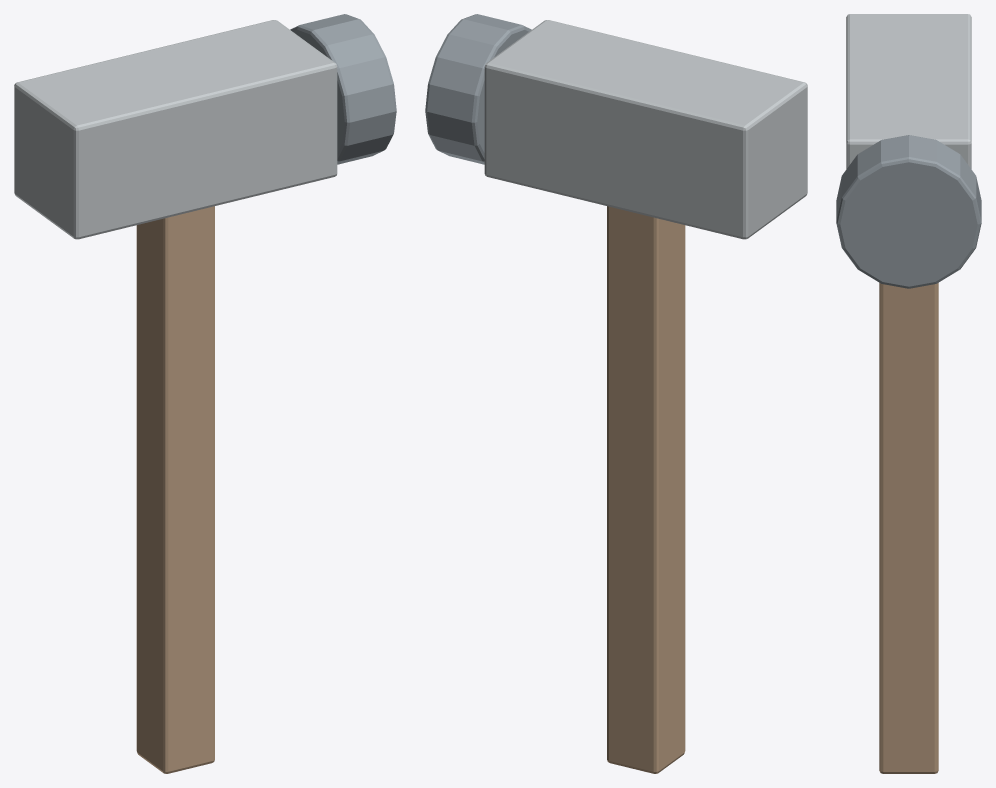
Rendered from hammer.glb.
3 renders of one model, left to right at view 1: azimuth 30°, elevation 25°; view 2: azimuth 150°, elevation 25°; view 3: azimuth 270°, elevation 25°, orthographic.
Visible parts, largest first — view 1: hammer_钢锤头, hammer_木柄, hammer_锤面; view 2: hammer_钢锤头, hammer_木柄, hammer_锤面; view 3: hammer_木柄, hammer_锤面, hammer_钢锤头.
Boxes of the visible parts, x1,y1,x2,y2 form: hammer_钢锤头: (14,20,337,239); hammer_木柄: (136,206,214,773); hammer_锤面: (290,14,396,164); hammer_钢锤头: (484,20,807,239); hammer_木柄: (607,206,685,773); hammer_锤面: (425,14,531,164); hammer_木柄: (879,283,938,773); hammer_锤面: (836,135,981,288); hammer_钢锤头: (846,14,971,168).
Size of the model in its own units: 0.2775 by 0.58 by 0.11.
